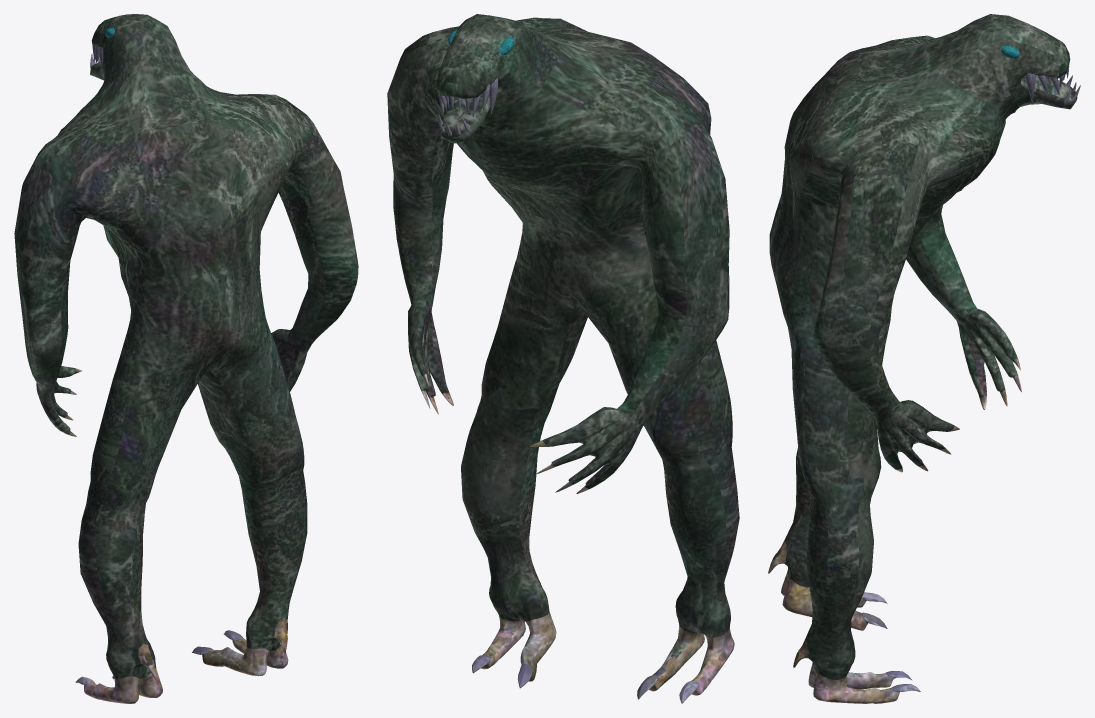
The model's file is Aranar.0020.obj.
The picture shows the model from 3 angles, left to right: view 1: azimuth 30°, elevation 25°; view 2: azimuth 150°, elevation 25°; view 3: azimuth 270°, elevation 25°; orthographic projection. The views are drawn at different scales.
Parts seen in each view (by area): view 1: polySurface28; view 2: polySurface28; view 3: polySurface28.
Boxes of the visible parts, <box> form: polySurface28: <box>14,14,358,703</box>; polySurface28: <box>387,14,739,703</box>; polySurface28: <box>768,14,1080,703</box>.
Bounding box in the file's own units: 1.2 × 2.31 × 0.9943.
Materials: 4 (4 with a texture image).
